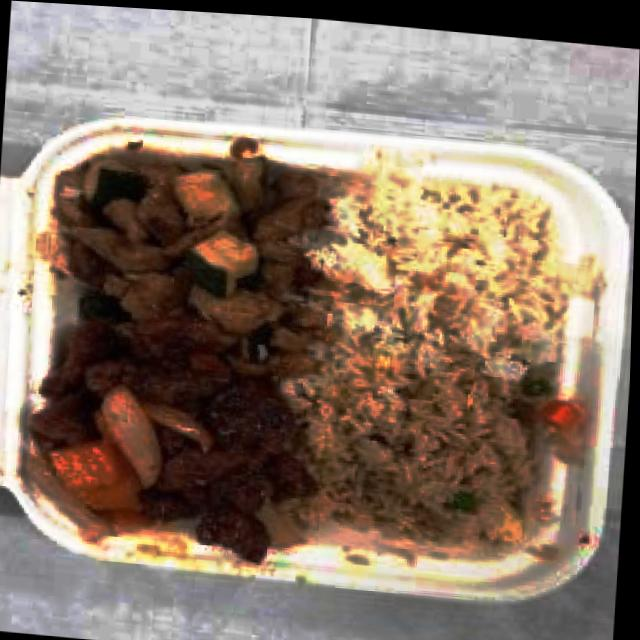Beijing Beef: (26, 322, 301, 546)
Fried Rice: (318, 363, 523, 544)
Kung Pao Chicken: (81, 152, 302, 292)
rice: (330, 180, 570, 376)
